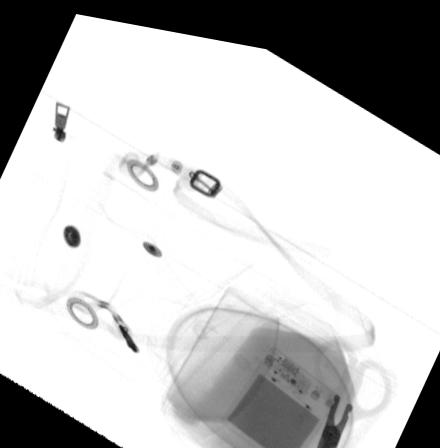Powerbank: (220, 333, 340, 448)
Scissors: (313, 324, 394, 448)
